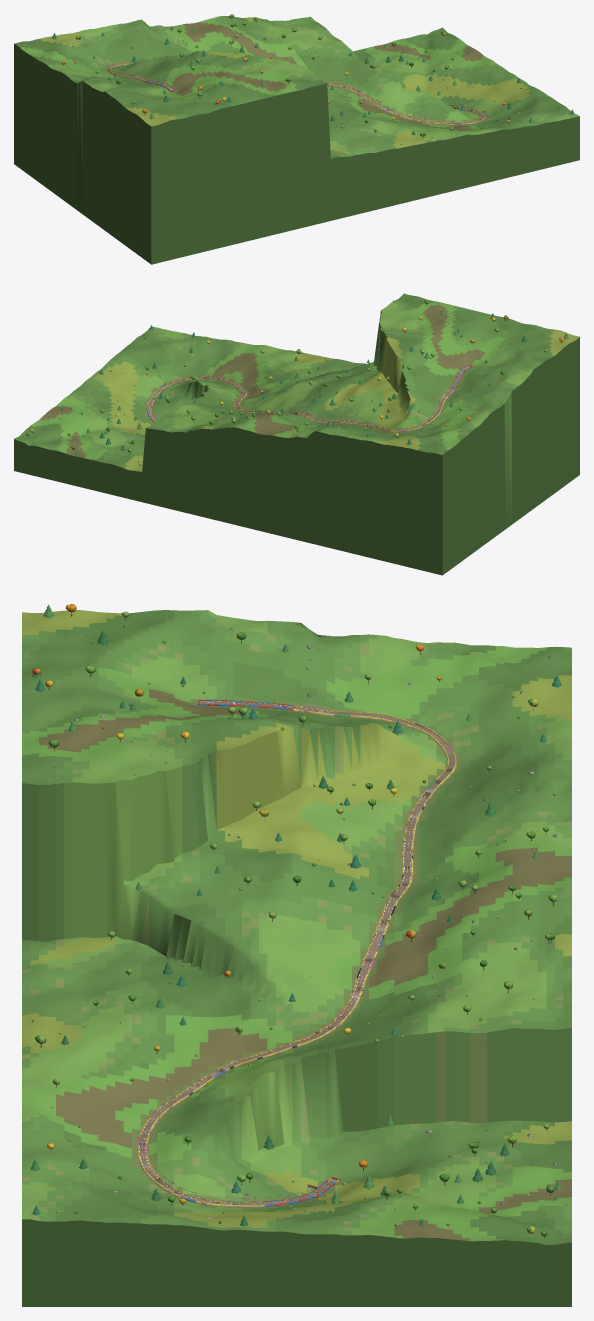
The picture shows the model from 3 angles, top to bottom: view 1: azimuth 30°, elevation 25°; view 2: azimuth 150°, elevation 25°; view 3: azimuth 270°, elevation 25°; orthographic projection. The views are drawn at different scales.
Visible parts, largest first — view 1: grass, pines, hay, leafy trees, road; view 2: grass, hay, pines, road, leafy trees; view 3: grass, road, hay, pines, leafy trees, markings, autumn trees.
Boxes of the visible parts, x1=… form: grass: x1=14, y1=16, x2=579, y2=264; pines: x1=52, y1=27, x2=574, y2=135; hay: x1=107, y1=62, x2=485, y2=124; leafy trees: x1=75, y1=14, x2=511, y2=136; road: x1=108, y1=63, x2=485, y2=123; grass: x1=14, y1=293, x2=579, y2=575; hay: x1=146, y1=365, x2=471, y2=432; pines: x1=61, y1=309, x2=568, y2=454; road: x1=147, y1=366, x2=470, y2=431; leafy trees: x1=26, y1=299, x2=547, y2=465; grass: x1=22, y1=610, x2=571, y2=1306; road: x1=138, y1=701, x2=455, y2=1205; hay: x1=137, y1=699, x2=456, y2=1207; pines: x1=30, y1=604, x2=562, y2=1226; leafy trees: x1=35, y1=611, x2=557, y2=1236; markings: x1=139, y1=701, x2=448, y2=1204; autumn trees: x1=32, y1=604, x2=441, y2=1203.
Size of the model in its own units: 585 by 191 by 325.
